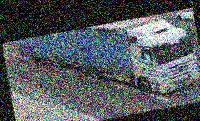truck: (16, 8, 200, 120)
